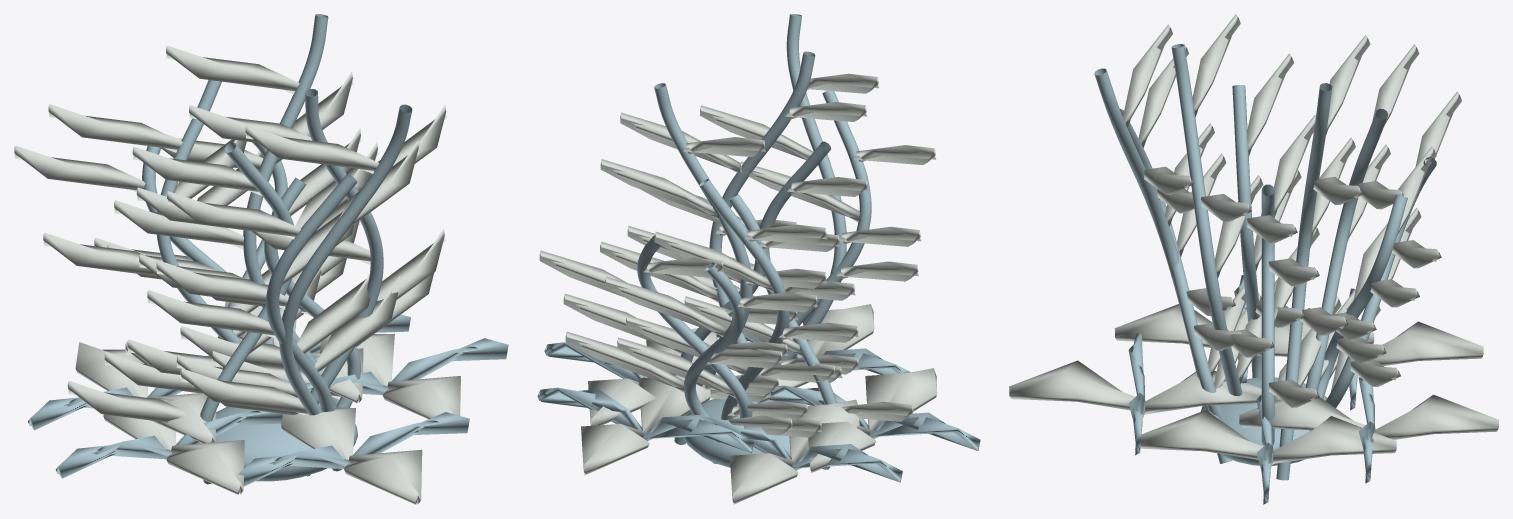
The model's file is bio_aquatic_frond_15_near.glb.
3 views of the same model, side by side, from view 1: azimuth 30°, elevation 25°; view 2: azimuth 150°, elevation 25°; view 3: azimuth 270°, elevation 25° (orthographic). The views are drawn at different scales.
Parts seen in each view (by area): view 1: Ruffled aquatic blade.010, Ruffled aquatic blade.035, Ruffled aquatic blade.040, Ruffled aquatic blade.005, Ruffled aquatic blade.020, Ruffled aquatic blade.025, Low buttress leaf.009, Flexible stipe.002, Low buttress leaf.017, Ruffled aquatic blade.030, Ruffled aquatic blade.015, Low buttress leaf.001 (+16 smaller); view 2: Ruffled aquatic blade.030, Ruffled aquatic blade.005, Ruffled aquatic blade.025, Ruffled aquatic blade.015, Ruffled aquatic blade.020, Ruffled aquatic blade.010, Ruffled aquatic blade.040, Ruffled aquatic blade.035, Low buttress leaf.013, Low buttress leaf.017, Low buttress leaf.005, Low buttress leaf.012 (+17 smaller); view 3: Low buttress leaf.001, Low buttress leaf.009, Low buttress leaf.013, Ruffled aquatic blade.040, Ruffled aquatic blade.025, Flexible stipe.005, Ruffled aquatic blade.010, Ruffled aquatic blade.035, Ruffled aquatic blade, Flexible stipe.008, Ruffled aquatic blade.005, Ruffled aquatic blade.030 (+15 smaller).
Boxes of the visible parts, box(x1,y1,x2,y2) form: Ruffled aquatic blade.010: box(156, 125, 419, 415); Ruffled aquatic blade.035: box(147, 191, 399, 414); Ruffled aquatic blade.040: box(114, 45, 360, 368); Ruffled aquatic blade.005: box(43, 104, 271, 374); Ruffled aquatic blade.020: box(67, 142, 378, 422); Ruffled aquatic blade.025: box(176, 105, 446, 397); Low buttress leaf.009: box(281, 407, 422, 504); Flexible stipe.002: box(279, 104, 412, 471); Low buttress leaf.017: box(103, 390, 244, 494); Ruffled aquatic blade.030: box(14, 145, 346, 364); Ruffled aquatic blade.015: box(104, 128, 361, 393); Low buttress leaf.001: box(319, 334, 460, 419); Ruffled aquatic blade.030: box(565, 276, 818, 435); Ruffled aquatic blade.005: box(626, 224, 858, 420); Ruffled aquatic blade.025: box(600, 102, 867, 382); Ruffled aquatic blade.015: box(539, 250, 822, 437); Ruffled aquatic blade.020: box(641, 177, 913, 421); Ruffled aquatic blade.010: box(700, 73, 920, 374); Ruffled aquatic blade.040: box(600, 137, 826, 393); Ruffled aquatic blade.035: box(693, 145, 936, 382); Low buttress leaf.013: box(581, 375, 710, 475); Low buttress leaf.017: box(808, 368, 937, 473); Low buttress leaf.005: box(729, 399, 859, 504); Low buttress leaf.012: box(537, 387, 753, 453); Low buttress leaf.001: box(1140, 410, 1396, 464); Low buttress leaf.009: box(1009, 360, 1261, 415); Low buttress leaf.013: box(1239, 394, 1498, 439); Ruffled aquatic blade.040: box(1298, 35, 1370, 386); Ruffled aquatic blade.025: box(1192, 14, 1275, 384); Flexible stipe.005: box(1171, 44, 1242, 396); Ruffled aquatic blade.010: box(1123, 24, 1246, 376); Ruffled aquatic blade.035: box(1138, 44, 1261, 388); Ruffled aquatic blade: box(1268, 115, 1319, 429); Flexible stipe.008: box(1276, 83, 1332, 480); Ruffled aquatic blade.005: box(1319, 44, 1419, 383); Ruffled aquatic blade.030: box(1330, 91, 1461, 392).
Bounding box in the file's own units: 2.22 × 1.89 × 2.09.
